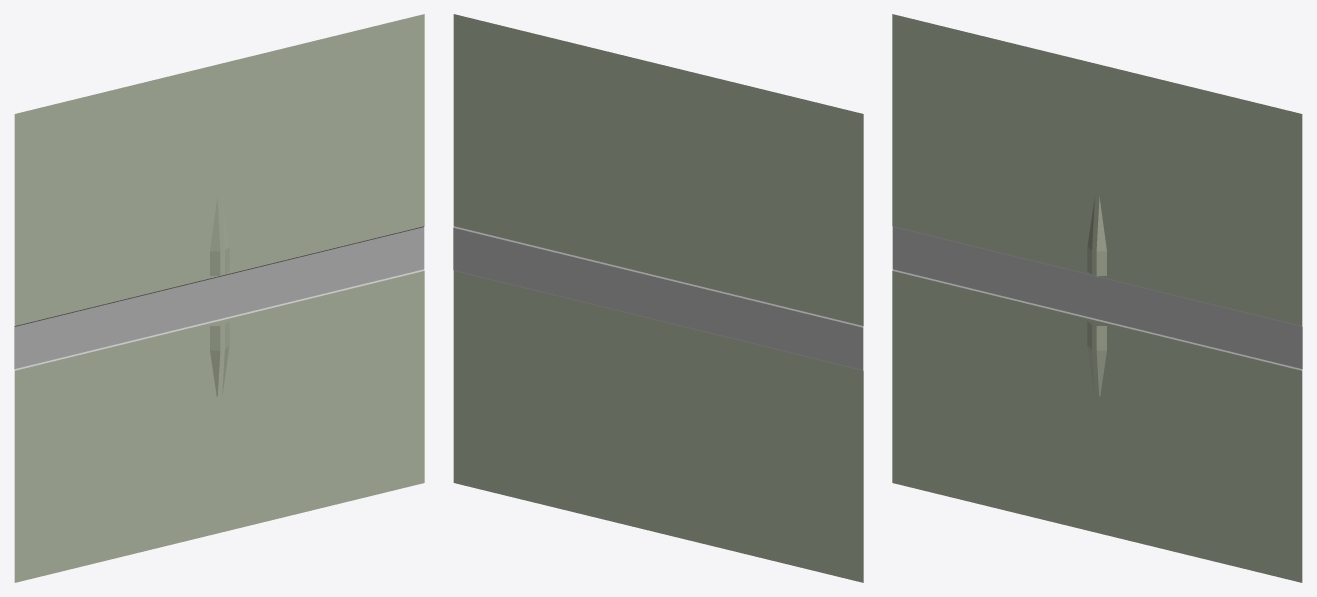
Rendered from env_terrain.obj.
3 renders of one model, left to right at view 1: azimuth 30°, elevation 25°; view 2: azimuth 150°, elevation 25°; view 3: azimuth 330°, elevation 25°, orthographic.
Visible parts, largest first — view 1: Grass, Bank; view 2: Grass, Bank; view 3: Grass, Bank.
Boxes of the visible parts, x1,y1,x2,y2 form: Grass: [14, 14, 424, 582]; Bank: [14, 226, 424, 370]; Grass: [453, 14, 863, 582]; Bank: [453, 226, 863, 370]; Grass: [892, 14, 1302, 582]; Bank: [892, 226, 1302, 370].
Size of the model in its own units: 809 by 884 by 11.55.
